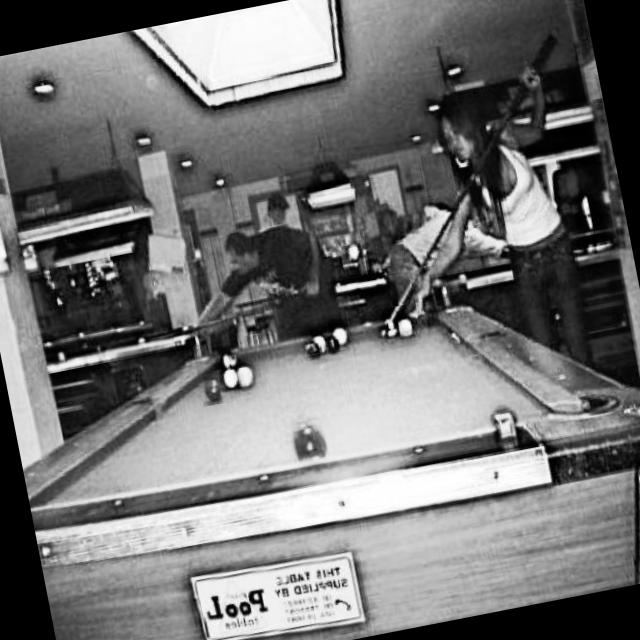Person: (380, 62, 602, 398), (175, 237, 194, 253)
